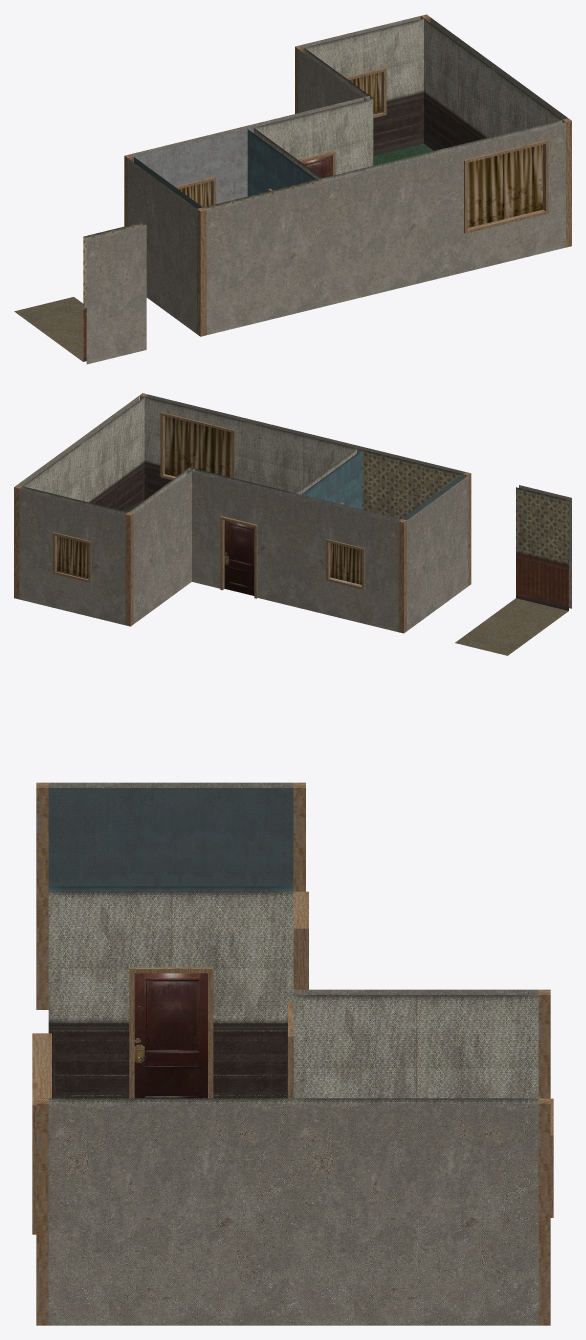
File: lim_hotel_kit (1).glb
The picture shows the model from 3 angles, top to bottom: view 1: azimuth 30°, elevation 25°; view 2: azimuth 150°, elevation 25°; view 3: azimuth 270°, elevation 25°; orthographic projection. The views are drawn at different scales.
Parts seen in each view (by area): view 1: Wall.016, Wall.020, Wall.012, Wall.002, Small_Window_Wall, Wall.017, Wall.001, Wall.018, Wall.019, Large_Window, Wall.015, Wall.011 (+9 smaller); view 2: Small_Window_Wall, Wall.019, Wall.018, Wall.017, Wall.011, Wall.002, Wall.015, Wall.020, Wall.016, Wall.012, Large_Window, Floor.002 (+14 smaller); view 3: Wall.001, Wall.015, Wall.013, Wall.011, Wall.017, door.001, Wall.005, Wall.008, Wall.009, DoorFrame.001, WindowFrame_Large, WindowFrame_Small.001 (+3 smaller).
Boxes of the visible parts, left/top/right/bottom form: Wall.016: left=203, top=178, right=326, bottom=334; Wall.020: left=322, top=149, right=445, bottom=305; Wall.012: left=442, top=120, right=565, bottom=276; Wall.002: left=83, top=222, right=146, bottom=364; Small_Window_Wall: left=301, top=16, right=423, bottom=155; Wall.017: left=127, top=157, right=202, bottom=333; Wall.001: left=424, top=17, right=499, bottom=150; Wall.018: left=250, top=96, right=373, bottom=174; Wall.019: left=130, top=125, right=253, bottom=203; Large_Window: left=467, top=144, right=542, bottom=227; Wall.015: left=493, top=68, right=567, bottom=136; Wall.011: left=298, top=48, right=372, bottom=112; Small_Window_Wall: left=19, top=486, right=127, bottom=624; Wall.019: left=292, top=493, right=401, bottom=632; Wall.018: left=186, top=467, right=295, bottom=606; Wall.017: left=402, top=474, right=468, bottom=630; Wall.011: left=129, top=467, right=194, bottom=623; Wall.002: left=516, top=485, right=571, bottom=610; Wall.015: left=78, top=396, right=144, bottom=511; Wall.020: left=250, top=420, right=359, bottom=492; Wall.016: left=357, top=446, right=465, bottom=518; Wall.012: left=144, top=394, right=253, bottom=499; Large_Window: left=165, top=416, right=231, bottom=477; Floor.002: left=455, top=598, right=568, bottom=655; Wall.001: left=293, top=1098, right=538, bottom=1325; Wall.015: left=48, top=1098, right=293, bottom=1325; Wall.013: left=48, top=891, right=293, bottom=1098; Wall.011: left=293, top=989, right=538, bottom=1098; Wall.017: left=48, top=782, right=293, bottom=886; door.001: left=134, top=973, right=207, bottom=1098; Wall.005: left=538, top=1098, right=550, bottom=1325; Wall.008: left=36, top=1098, right=48, bottom=1325; Wall.009: left=36, top=782, right=48, bottom=1009; DoorFrame.001: left=129, top=967, right=213, bottom=1098; WindowFrame_Large: left=32, top=1033, right=51, bottom=1234; WindowFrame_Small.001: left=293, top=891, right=308, bottom=989.
Size of the model in its own units: 8.1 by 2 by 4.26.
13 materials, 13 textured.
